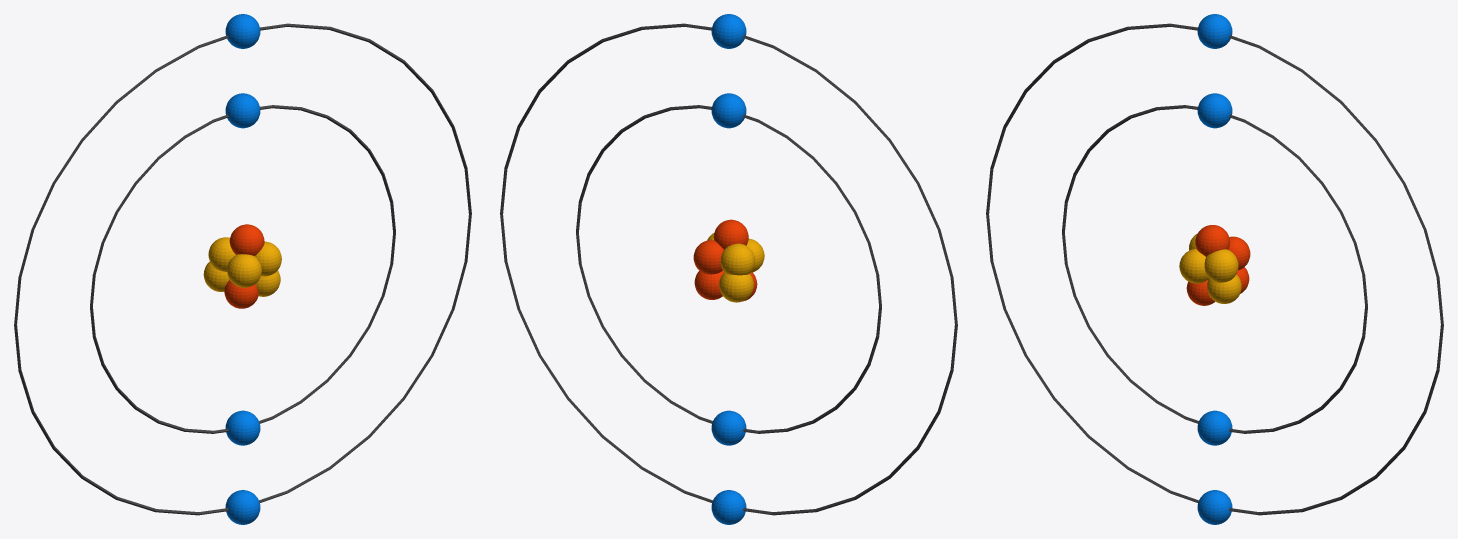
The picture shows the model from 3 angles, left to right: view 1: azimuth 30°, elevation 25°; view 2: azimuth 150°, elevation 25°; view 3: azimuth 330°, elevation 25°; orthographic projection.
Parts seen in each view (by area): view 1: Orbit2, Orbit1, Electron.002, Electron.003, Electron, Electron.001, Neutron.004, Proton.003, Proton.001, Neutron.001, Neutron; view 2: Orbit2, Orbit1, Electron.002, Electron.003, Electron, Electron.001, Neutron.001, Neutron.003, Proton.002, Proton.003, Proton; view 3: Orbit2, Orbit1, Electron.002, Electron.003, Electron, Electron.001, Neutron, Proton.003, Neutron.004, Neutron.002.
Part boxes in pixels (x1,y1,x2,y2): Orbit2: [14, 23, 471, 515]; Orbit1: [90, 105, 395, 433]; Electron.002: [225, 14, 260, 48]; Electron.003: [225, 490, 260, 524]; Electron: [225, 93, 260, 128]; Electron.001: [225, 410, 260, 445]; Neutron.004: [227, 254, 261, 287]; Proton.003: [229, 224, 264, 255]; Proton.001: [224, 280, 258, 308]; Neutron.001: [208, 237, 235, 271]; Neutron: [255, 241, 281, 276]; Orbit2: [500, 23, 957, 515]; Orbit1: [576, 105, 881, 433]; Electron.002: [711, 14, 746, 48]; Electron.003: [711, 490, 746, 524]; Electron: [711, 93, 746, 128]; Electron.001: [711, 410, 746, 445]; Neutron.001: [720, 243, 754, 275]; Neutron.003: [719, 272, 753, 302]; Proton.002: [693, 240, 723, 274]; Proton.003: [713, 219, 748, 249]; Proton: [694, 270, 724, 299]; Orbit2: [986, 23, 1443, 515]; Orbit1: [1062, 105, 1367, 433]; Electron.002: [1197, 14, 1232, 48]; Electron.003: [1197, 490, 1232, 524]; Electron: [1197, 93, 1232, 128]; Electron.001: [1197, 410, 1232, 445]; Neutron: [1204, 249, 1238, 282]; Proton.003: [1195, 225, 1230, 256]; Neutron.004: [1179, 249, 1208, 283]; Neutron.002: [1207, 274, 1241, 303].
Size of the model in its own units: 302 by 320 by 39.37.
